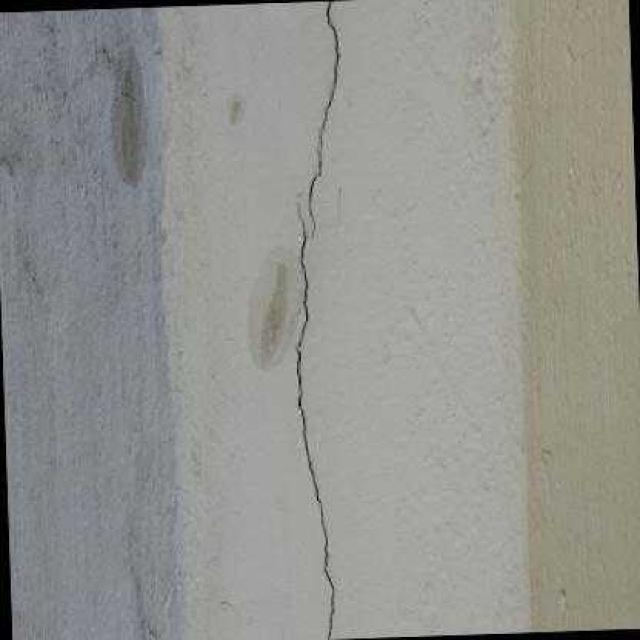D00: (295, 204, 333, 640), (307, 0, 339, 242)
